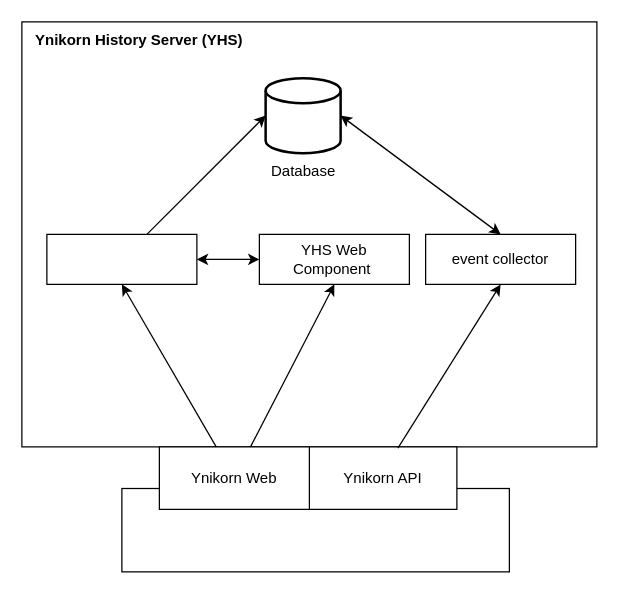
Image size: 619x594. Some labels were removed from this diagram. The centre of each missing label's shape, as x and y in pixels:
Kubernetes Cluster: (x=315, y=529)
YHS Rest API (webservice): (x=121, y=258)
